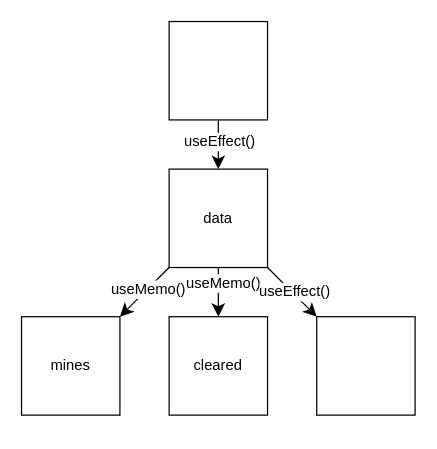
The diagram is 437 pixels wide and 449 high, and some of its shapes have lost their labels. The shapes that lost their labels are listed below. From the top down, each one's centre as x and y in pixels, then its label:
the point at 218,70: location
the point at 365,365: clickedCells flaggedCells hoveredCell -> set to 0
